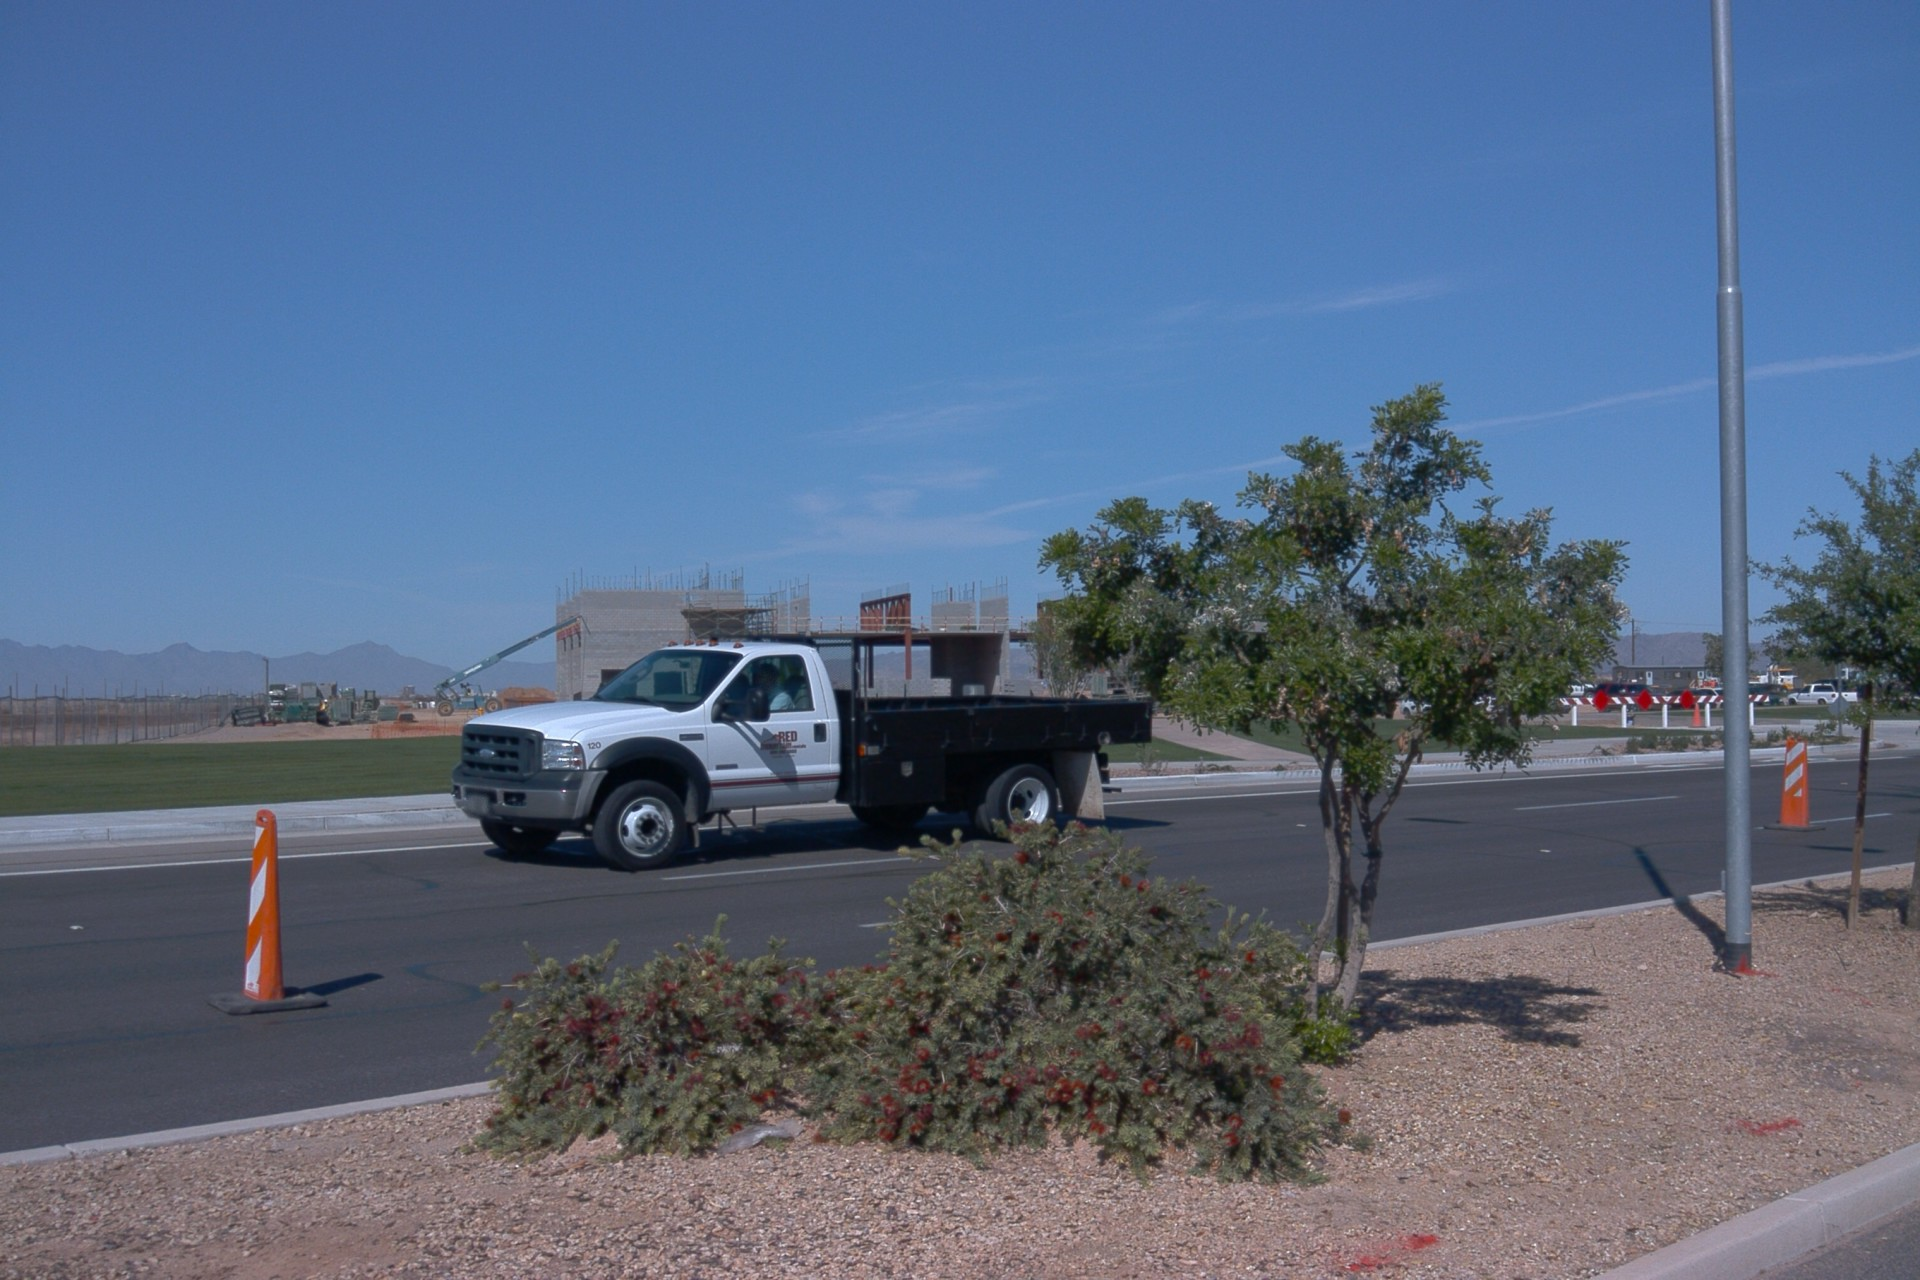TYPE_PEDESTRIAN: (319, 696, 327, 711)
TYPE_VEHICLE: (446, 630, 1153, 875), (429, 613, 588, 717), (1595, 682, 1658, 715), (1792, 688, 1859, 709), (1833, 669, 1900, 687), (1814, 682, 1874, 702), (1744, 671, 1797, 693), (1747, 688, 1793, 709), (1466, 693, 1507, 714), (1395, 697, 1431, 718), (1694, 688, 1725, 709), (1565, 682, 1596, 702)
